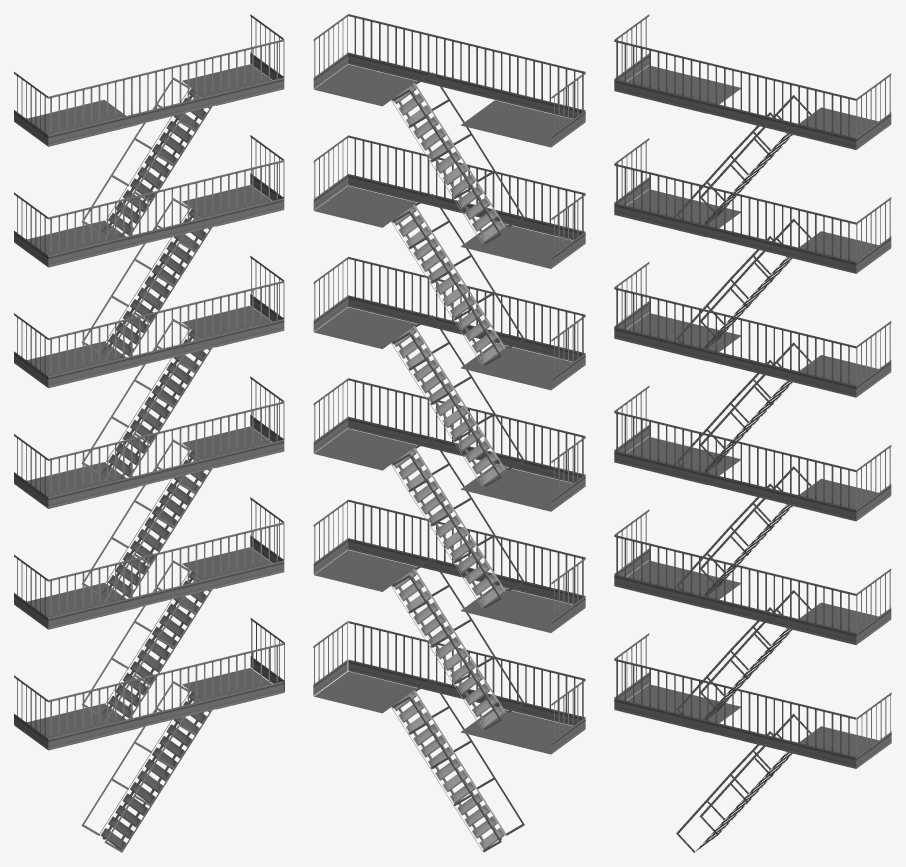
Rendered from art_roofFireScape.fbx.
3 renders of one model, left to right at view 1: azimuth 30°, elevation 25°; view 2: azimuth 150°, elevation 25°; view 3: azimuth 330°, elevation 25°, orthographic. The views are drawn at different scales.
Visible parts, largest first — view 1: art_roofFireScape; view 2: art_roofFireScape; view 3: art_roofFireScape.
Part boxes in pixels (bbox=[...]): art_roofFireScape: bbox=[14, 14, 284, 852]; art_roofFireScape: bbox=[313, 14, 585, 852]; art_roofFireScape: bbox=[614, 14, 891, 852].
Size of the model in its own units: 8208 by 25748 by 2059.
Materials: 1 (1 with a texture image).
